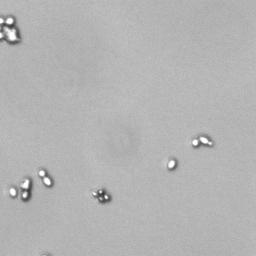budding: (37, 167, 53, 187), (191, 135, 213, 147), (20, 178, 31, 199)
cluster: (1, 13, 23, 50), (90, 187, 114, 205)
individual: (8, 187, 18, 198), (167, 159, 177, 170)
